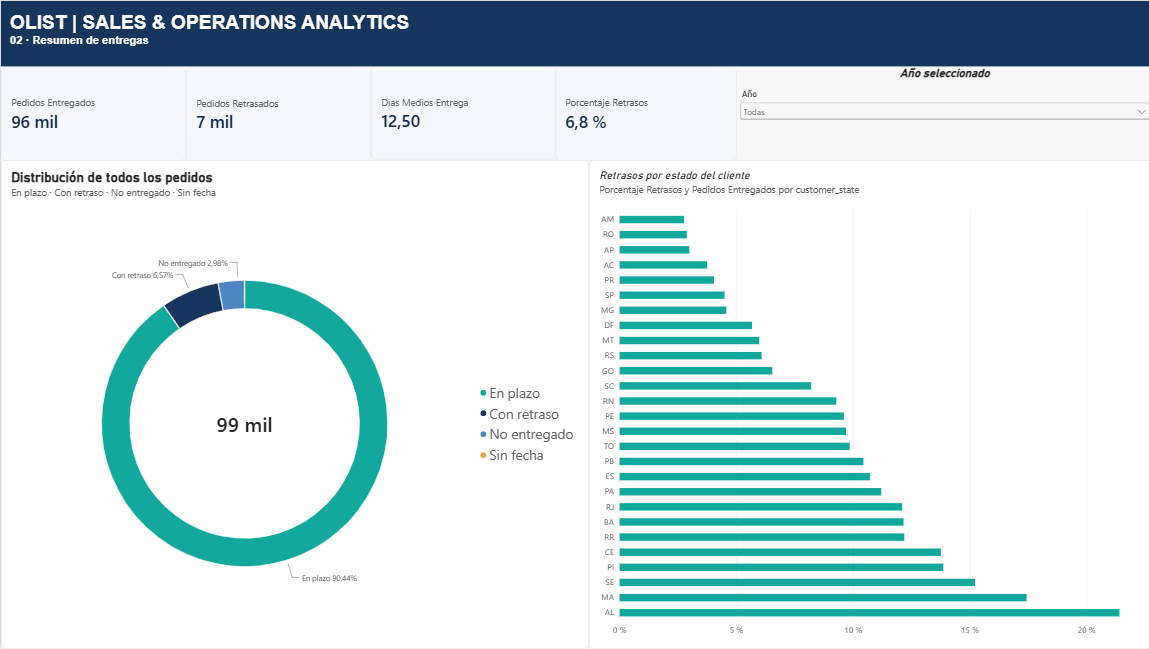

The page's visual inventory and layout, read from the dashboard file:
{"tool":"powerbi","page":{"name":"Entregas","canvas":[1920,1080],"ordinal":1},"visuals":[{"type":"cardVisual","fields":{"Data":["stgPedidos.Porcentaje Retrasos"]},"box":[924,110,303,156],"z":0},{"type":"cardVisual","fields":{"Data":["stgPedidos.Dias Medios Entrega"]},"box":[616,109,308,157],"z":1000},{"type":"cardVisual","fields":{"Data":["stgPedidos.Pedidos Retrasados"]},"box":[308.3,110,308,157],"z":2000},{"type":"cardVisual","fields":{"Data":["stgPedidos.Pedidos Entregados"]},"box":[0,110,308.3,156.7],"z":3000},{"type":"donutChart","title":"Distribución de todos los pedidos","fields":{"Category":["stgPedidos.Estado Entrega"],"Y":["stgArticulos.Pedidos Totales"]},"box":[0,265,980,815],"z":4000},{"type":"clusteredBarChart","title":"Retrasos por estado del cliente","fields":{"Category":["stgClientes.customer_state"],"Y":["stgPedidos.Porcentaje Retrasos"]},"box":[980,265,940,815],"z":5000},{"type":"slicer","title":"Año seleccionado","fields":{"Values":["Calendario.Año"]},"box":[1227,108,693,157],"z":6000},{"type":"shape","box":[0,0,1920.3,109.1],"z":7000},{"type":"textbox","box":[15,18.3,765,103.3],"z":8000}]}

Visuals, with their boxes in screenshot pixels (x1, y1, x2, y2), scaled from the page's 1920x1080 canvas onto the 1149x649 screenshot:
cardVisual - stgPedidos.Porcentaje Retrasos: (553, 66, 734, 160)
cardVisual - stgPedidos.Dias Medios Entrega: (369, 66, 553, 160)
cardVisual - stgPedidos.Pedidos Retrasados: (184, 66, 369, 160)
cardVisual - stgPedidos.Pedidos Entregados: (0, 66, 184, 160)
"Distribución de todos los pedidos" donutChart: (0, 159, 586, 648)
"Retrasos por estado del cliente" clusteredBarChart: (586, 159, 1148, 648)
"Año seleccionado" slicer: (734, 65, 1148, 159)
shape: (0, 0, 1148, 66)
textbox: (9, 11, 467, 73)
